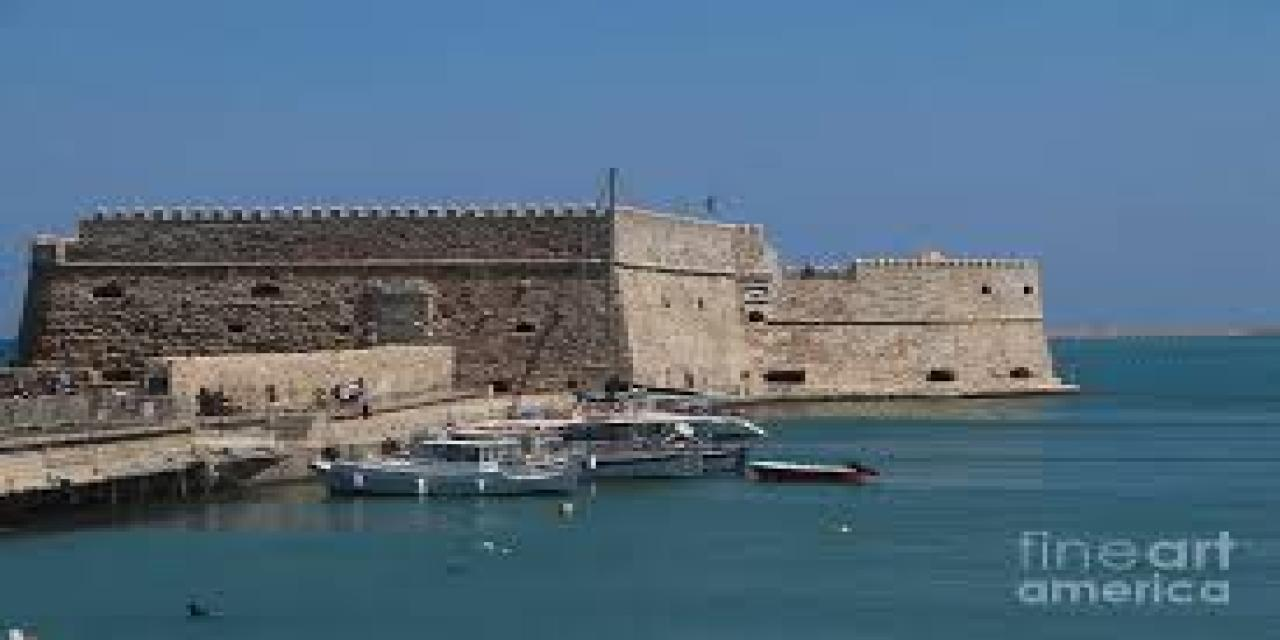Kules: (18, 180, 1080, 400)
